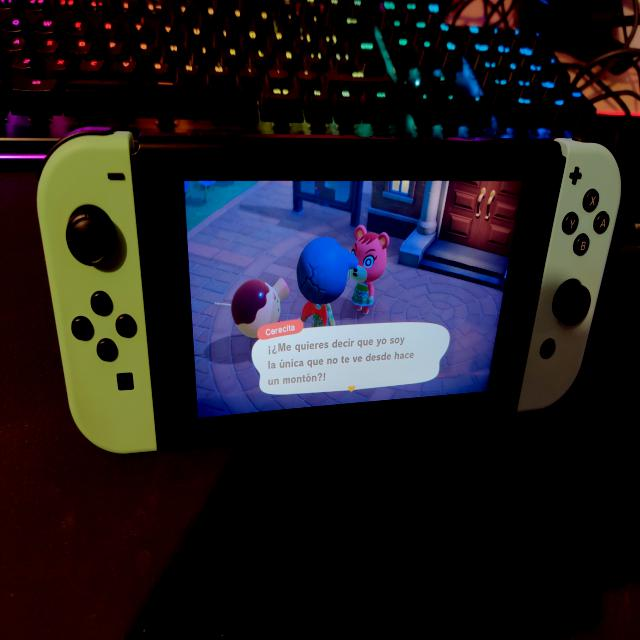text_bubble: (251, 318, 453, 400)
